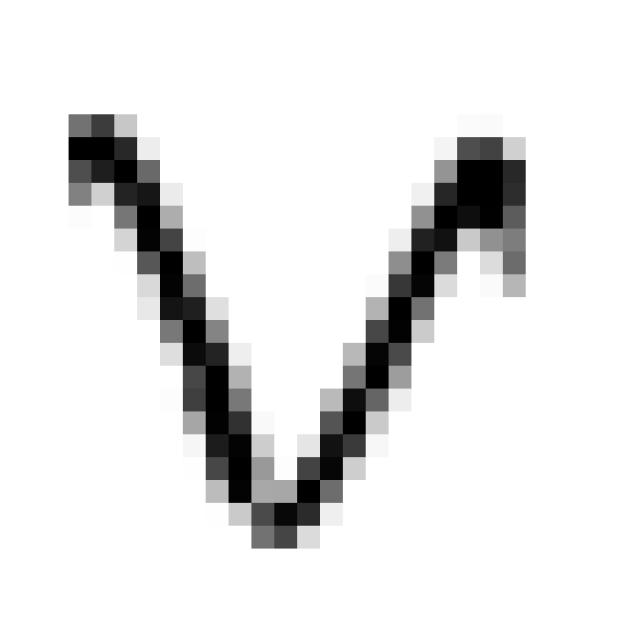7 -seven-: (46, 87, 543, 570)
